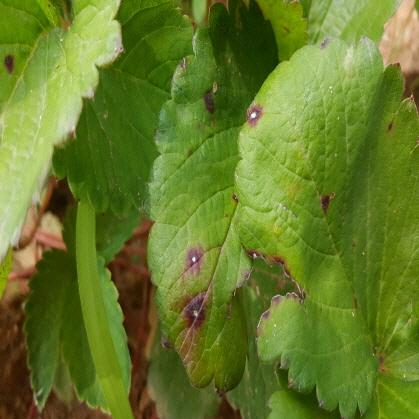Leaf Spot: (232, 34, 418, 418), (143, 0, 280, 395), (0, 0, 126, 265)
